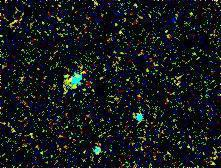star: (57, 67, 87, 97)
